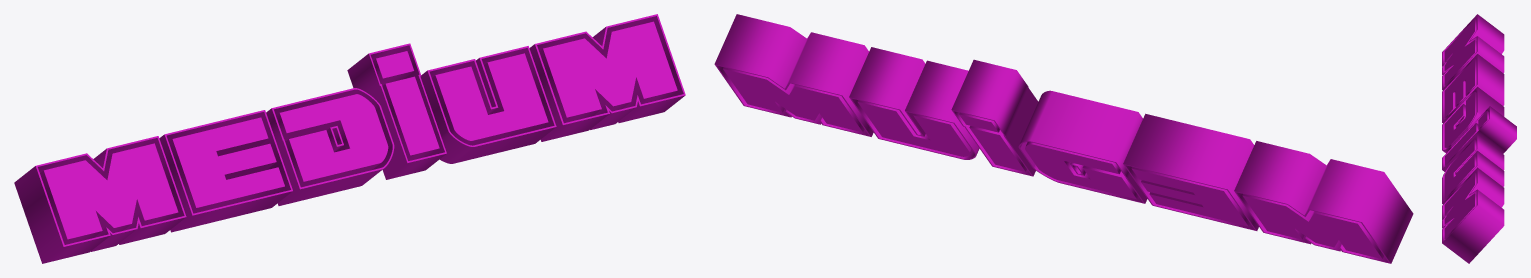
File: medium.obj
3 views of the same model, side by side, from view 1: azimuth 30°, elevation 25°; view 2: azimuth 150°, elevation 25°; view 3: azimuth 270°, elevation 25° (orthographic). The views are drawn at different scales.
Parts seen in each view (by area): view 1: Texto; view 2: Texto; view 3: Texto.
Boxes of the visible parts, x1,y1,x2,y2 form: Texto: (14, 14, 685, 263); Texto: (714, 14, 1413, 263); Texto: (1442, 14, 1516, 263).
Size of the model in its own units: 12.85 by 2.26 by 2.13.
